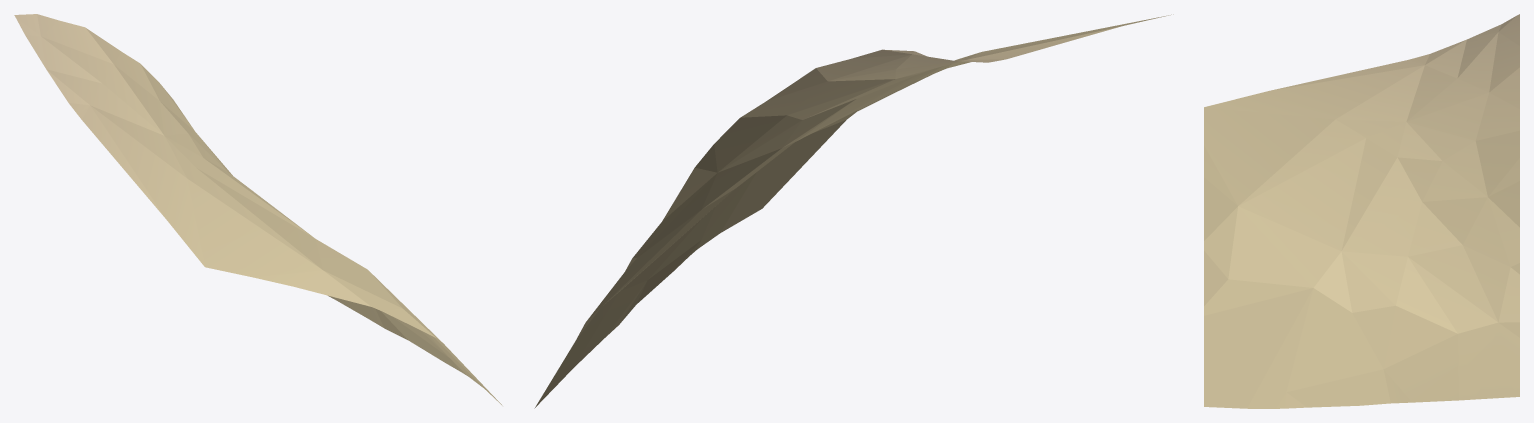
The model's file is bisect-1-5-1.gltf.
The picture shows the model from 3 angles, left to right: view 1: azimuth 30°, elevation 25°; view 2: azimuth 150°, elevation 25°; view 3: azimuth 270°, elevation 25°; orthographic projection. The views are drawn at different scales.
Visible parts, largest first — view 1: bisect-1-5-1; view 2: bisect-1-5-1; view 3: bisect-1-5-1.
Boxes of the visible parts, x1,y1,x2,y2 form: bisect-1-5-1: [14, 14, 502, 405]; bisect-1-5-1: [534, 14, 1173, 408]; bisect-1-5-1: [1204, 14, 1519, 408].
Bounding box in the file's own units: 18.52 × 18.96 × 20.
